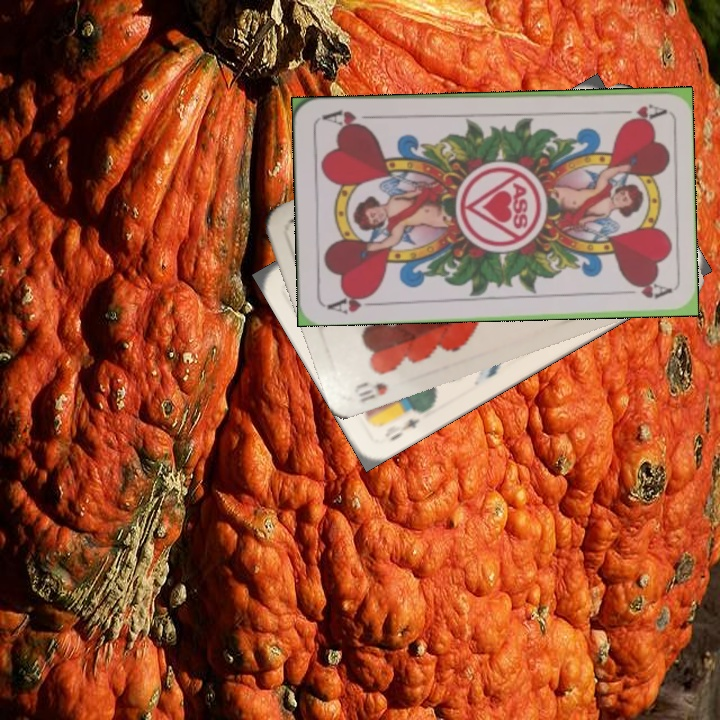EO: (385, 404, 428, 444)
H10: (350, 377, 390, 405)
HA: (322, 288, 381, 316), (607, 100, 666, 123)
